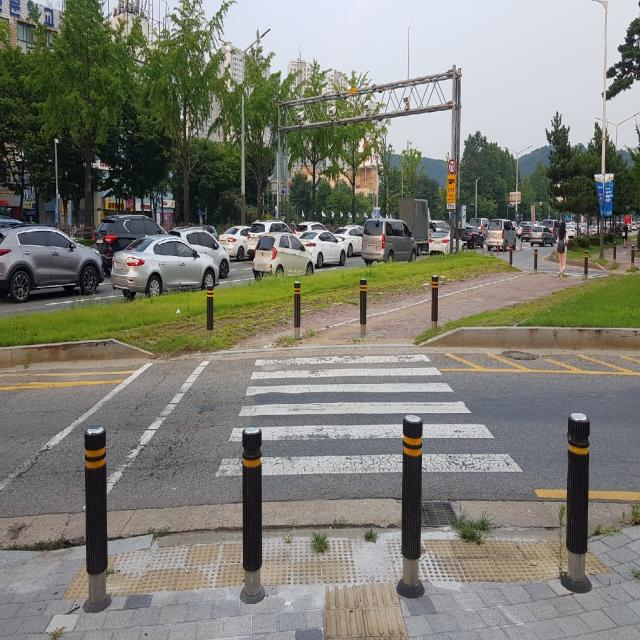횡단보도: (212, 351, 526, 481)
